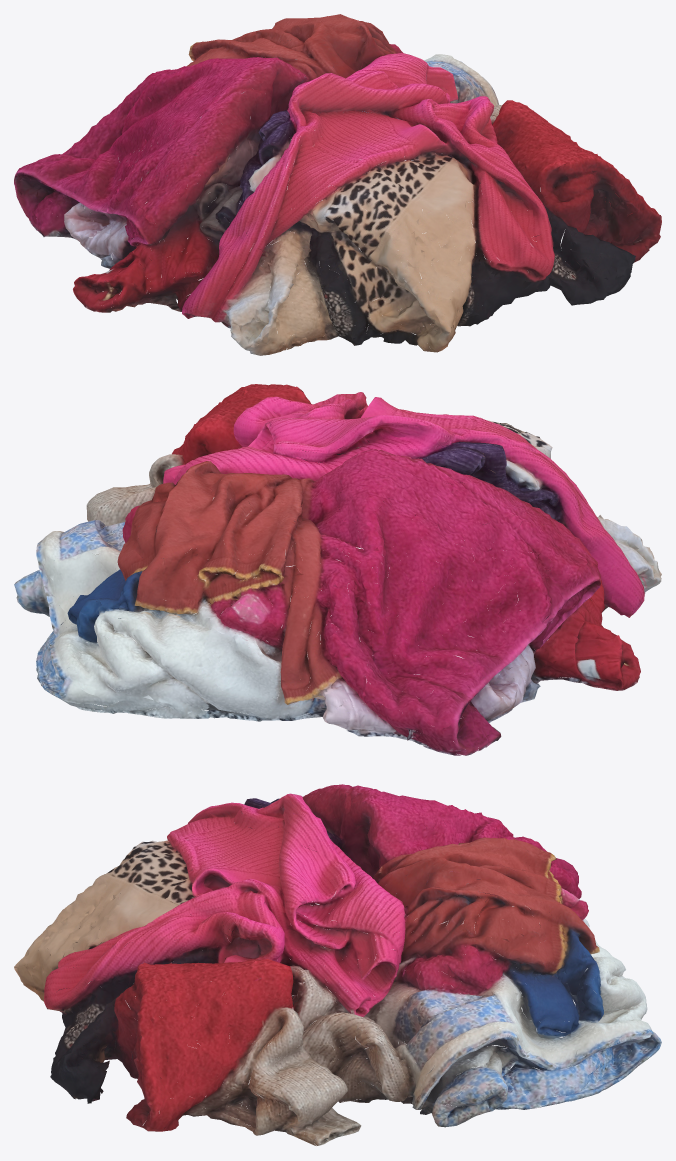
File: pile-of-clothsglb.glb
3 renders of one model, top to bottom at view 1: azimuth 30°, elevation 25°; view 2: azimuth 150°, elevation 25°; view 3: azimuth 270°, elevation 25°, orthographic. The views are drawn at different scales.
Visible parts, largest first — view 1: Dress_pile_Dress_pile_u1_v1_0; view 2: Dress_pile_Dress_pile_u1_v1_0; view 3: Dress_pile_Dress_pile_u1_v1_0.
Boxes of the visible parts, x1,y1,x2,y2 form: Dress_pile_Dress_pile_u1_v1_0: (14,14,661,355); Dress_pile_Dress_pile_u1_v1_0: (14,384,661,755); Dress_pile_Dress_pile_u1_v1_0: (14,784,661,1145).
Size of the model in its own units: 1.27 by 0.4371 by 1.31.
1 material, 1 textured.
